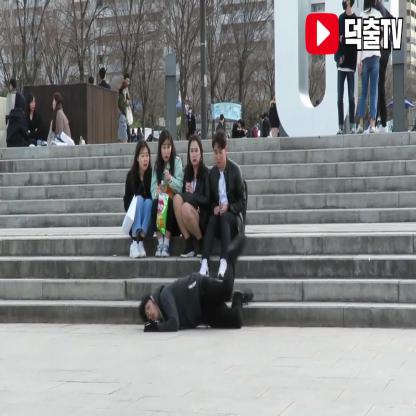Fall_Down: (137, 228, 257, 336)
